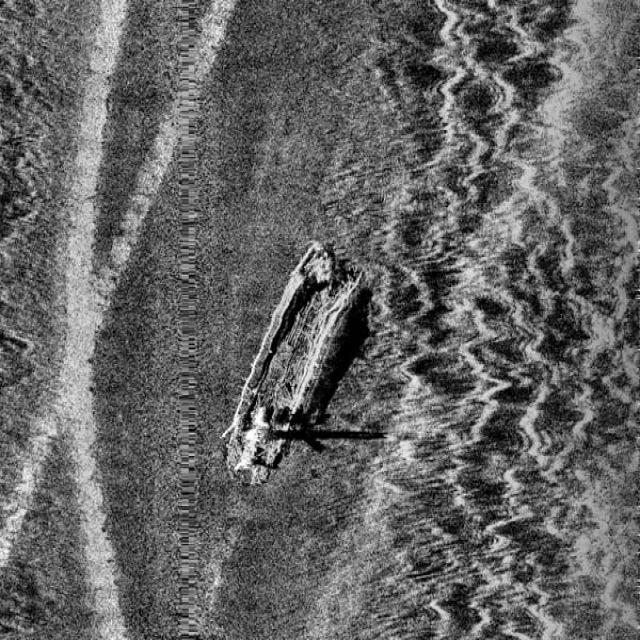ship: (232, 235, 362, 475)
